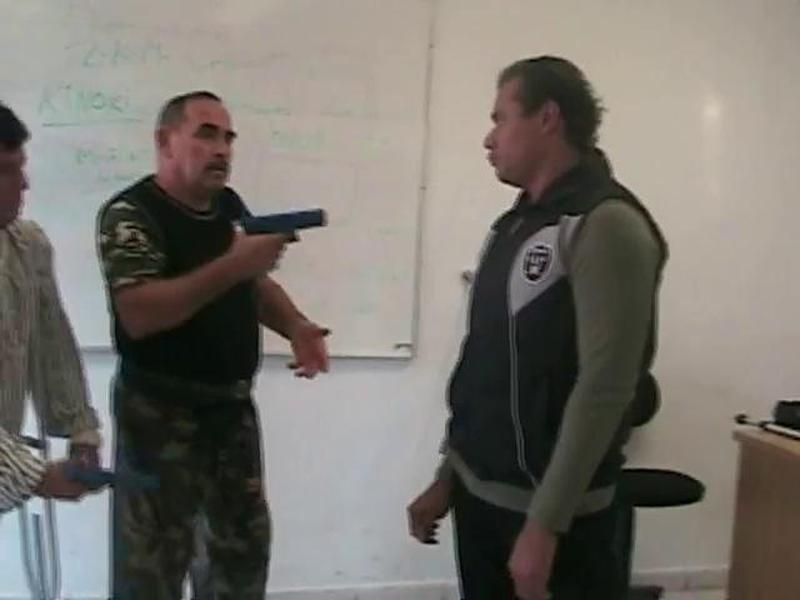Pistola: (222, 199, 329, 286)
